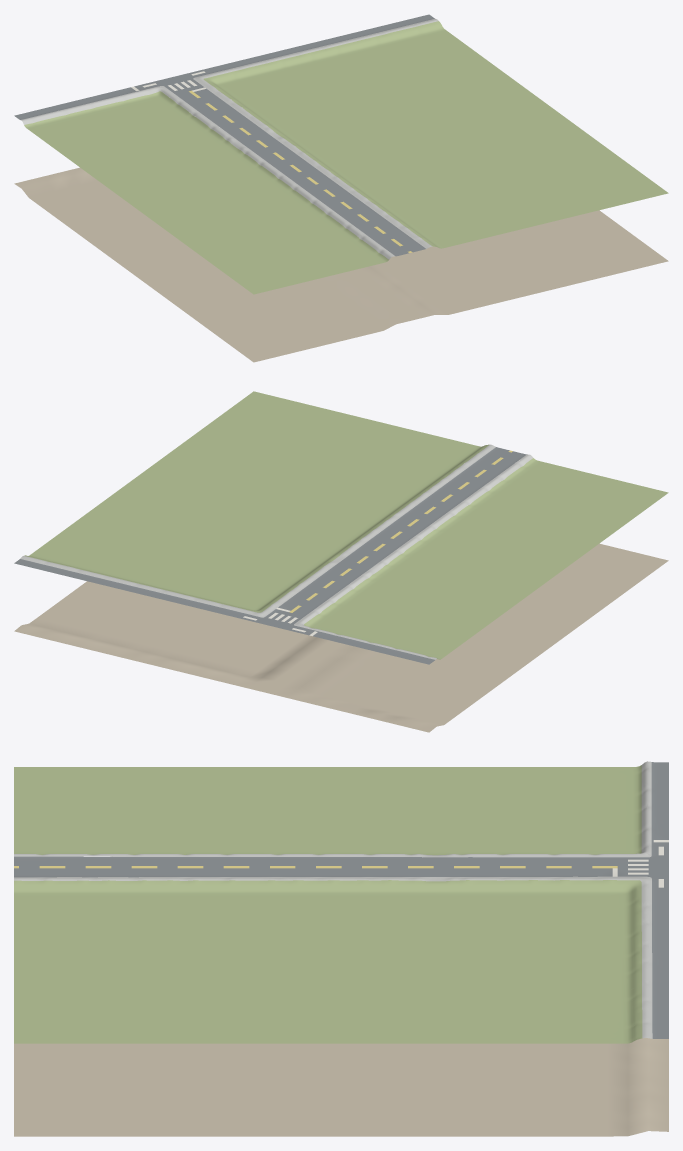
3 renders of one model, top to bottom at view 1: azimuth 30°, elevation 25°; view 2: azimuth 150°, elevation 25°; view 3: azimuth 270°, elevation 25°, orthographic. The views are drawn at different scales.
Parts seen in each view (by area): view 1: s_-10_4__grass, s_-10_4__soil, s_-10_4__asphalt, s_-10_4__stone_paving; view 2: s_-10_4__grass, s_-10_4__soil, s_-10_4__asphalt, s_-10_4__stone_paving; view 3: s_-10_4__grass, s_-10_4__soil, s_-10_4__asphalt, s_-10_4__stone_paving, s_-10_4__yellow_marking.
Part boxes in pixels (x1,y1,x2,y2): s_-10_4__grass: (24, 21, 668, 294); s_-10_4__soil: (14, 167, 668, 362); s_-10_4__asphalt: (14, 14, 434, 256); s_-10_4__stone_paving: (20, 18, 438, 259); s_-10_4__grass: (24, 391, 668, 659); s_-10_4__soil: (14, 543, 668, 732); s_-10_4__asphalt: (14, 447, 526, 664); s_-10_4__stone_paving: (20, 444, 533, 659); s_-10_4__grass: (14, 765, 642, 1043); s_-10_4__soil: (14, 1038, 668, 1136); s_-10_4__asphalt: (14, 762, 668, 1038); s_-10_4__stone_paving: (14, 761, 652, 1038); s_-10_4__yellow_marking: (14, 866, 617, 868).
Size of the model in its own units: 128 by 21.36 by 128.
